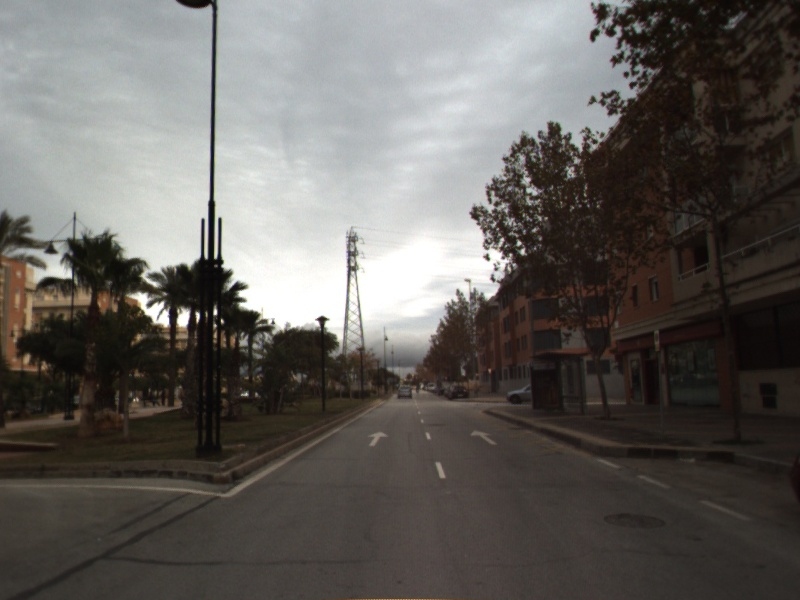STRAIGHT: (469, 427, 500, 447), (366, 429, 391, 448)
